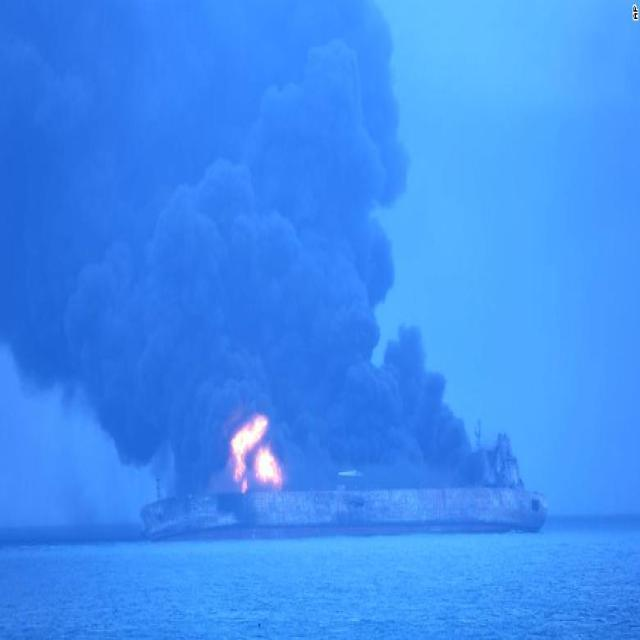Fire: (233, 420, 282, 490)
